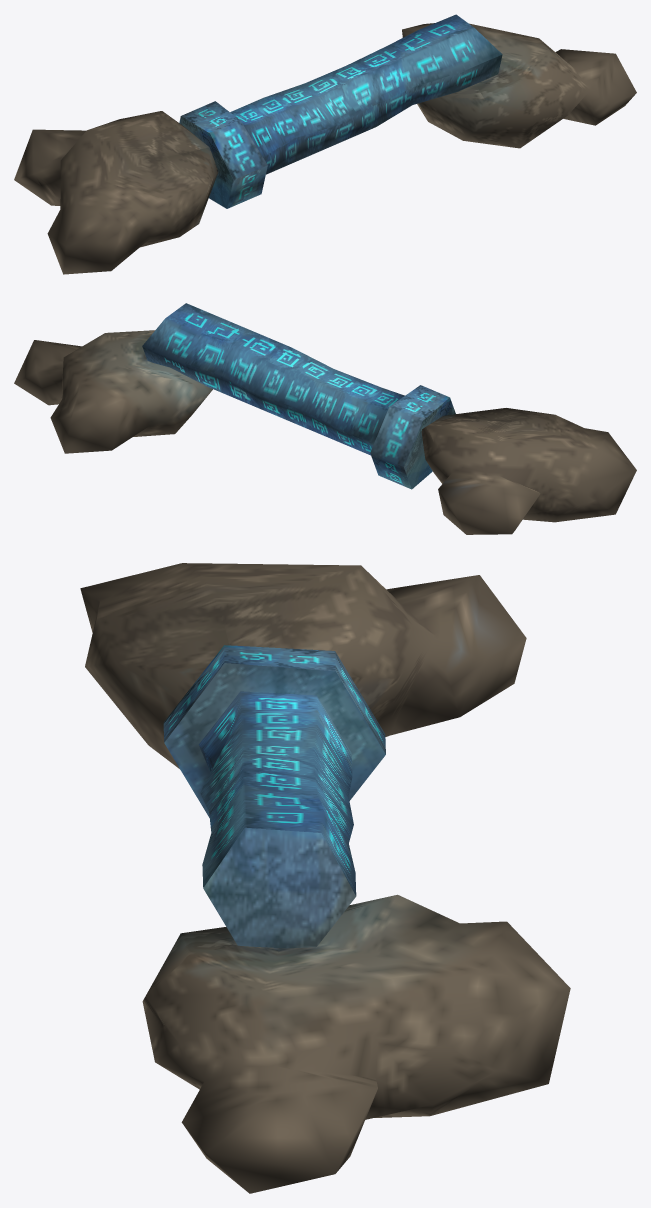
The model's file is Bridge.fbx.
3 views of the same model, one above another, from view 1: azimuth 30°, elevation 25°; view 2: azimuth 150°, elevation 25°; view 3: azimuth 270°, elevation 25° (orthographic). The views are drawn at different scales.
Visible parts, largest first — view 1: bridge; view 2: bridge; view 3: bridge.
Boxes of the visible parts, left/top/right/bottom form: bridge: left=14, top=14, right=636, bottom=274; bridge: left=14, top=303, right=636, bottom=534; bridge: left=80, top=563, right=570, bottom=1193.
Size of the model in its own units: 1719 by 356 by 640.
1 material, 1 textured.
